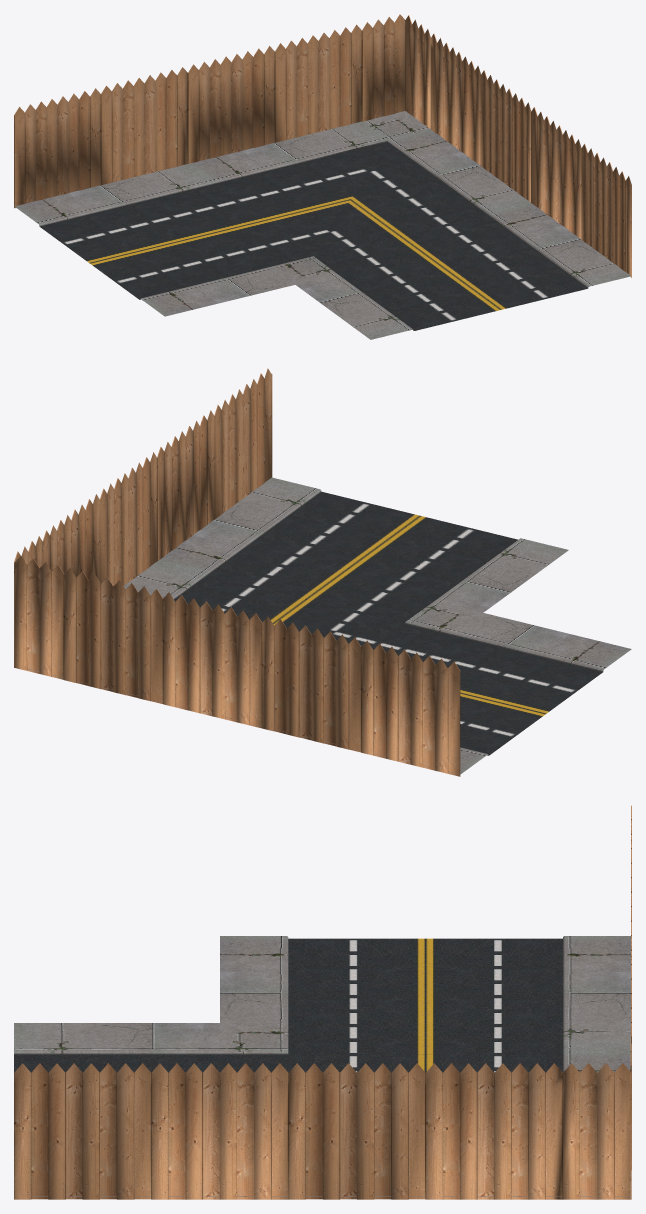
Rendered from road_corner_fence_outside.obj.
The picture shows the model from 3 angles, top to bottom: view 1: azimuth 30°, elevation 25°; view 2: azimuth 150°, elevation 25°; view 3: azimuth 270°, elevation 25°; orthographic projection. The views are drawn at different scales.
Parts seen in each view (by area): view 1: ROAD_TILE_Plane.005_ROAD_TILE_Plane.001; view 2: ROAD_TILE_Plane.005_ROAD_TILE_Plane.001; view 3: ROAD_TILE_Plane.005_ROAD_TILE_Plane.001.
Boxes of the visible parts, x1,y1,x2,y2 form: ROAD_TILE_Plane.005_ROAD_TILE_Plane.001: (14, 14, 631, 339); ROAD_TILE_Plane.005_ROAD_TILE_Plane.001: (14, 368, 631, 776); ROAD_TILE_Plane.005_ROAD_TILE_Plane.001: (14, 805, 631, 1199).
Size of the model in its own units: 45.04 by 11 by 45.04.
